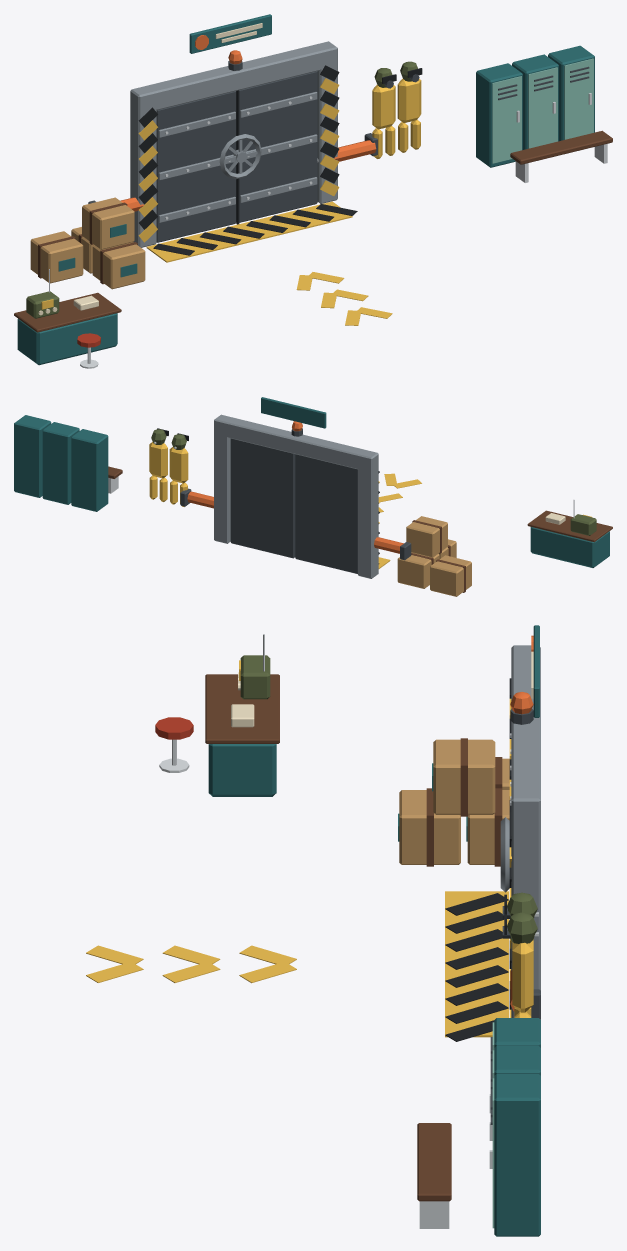
File: Kit_BlastDoor_L1.fbx
3 views of the same model, one above another, from view 1: azimuth 30°, elevation 25°; view 2: azimuth 150°, elevation 25°; view 3: azimuth 270°, elevation 25° (orthographic). The views are drawn at different scales.
Parts seen in each view (by area): view 1: Decor, Leaves, Frame, Crates, GuardDesk, Lockers, Bench; view 2: Leaves, Frame, Lockers, Decor, Crates, GuardDesk, Bench; view 3: Decor, Lockers, Crates, GuardDesk, Frame, Bench.
Boxes of the visible parts, x1=… form: Decor: x1=26, y1=14, x2=593, y2=368; Leaves: x1=156, y1=71, x2=317, y2=242; Frame: x1=130, y1=41, x2=337, y2=247; Crates: x1=30, y1=197, x2=145, y2=289; GuardDesk: x1=14, y1=292, x2=121, y2=365; Lockers: x1=476, y1=45, x2=594, y2=167; Bench: x1=510, y1=130, x2=612, y2=182; Leaves: x1=230, y1=438, x2=357, y2=573; Frame: x1=214, y1=414, x2=378, y2=578; Lockers: x1=14, y1=415, x2=108, y2=511; Decor: x1=149, y1=397, x2=596, y2=592; Crates: x1=397, y1=516, x2=471, y2=596; GuardDesk: x1=527, y1=510, x2=612, y2=567; Bench: x1=108, y1=466, x2=122, y2=493; Decor: x1=86, y1=625, x2=540, y2=1228; Lockers: x1=494, y1=1018, x2=540, y2=1236; Crates: x1=399, y1=739, x2=509, y2=864; GuardDesk: x1=205, y1=674, x2=279, y2=796; Frame: x1=511, y1=645, x2=540, y2=1019; Bench: x1=417, y1=1123, x2=451, y2=1228.
Size of the model in its own units: 55.9 by 16.02 by 21.35.
